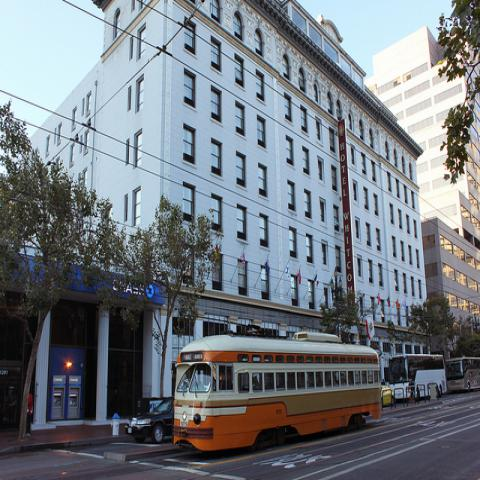bus: (173, 330, 382, 451), (388, 354, 448, 409), (446, 358, 480, 392)
car: (124, 398, 174, 444)
